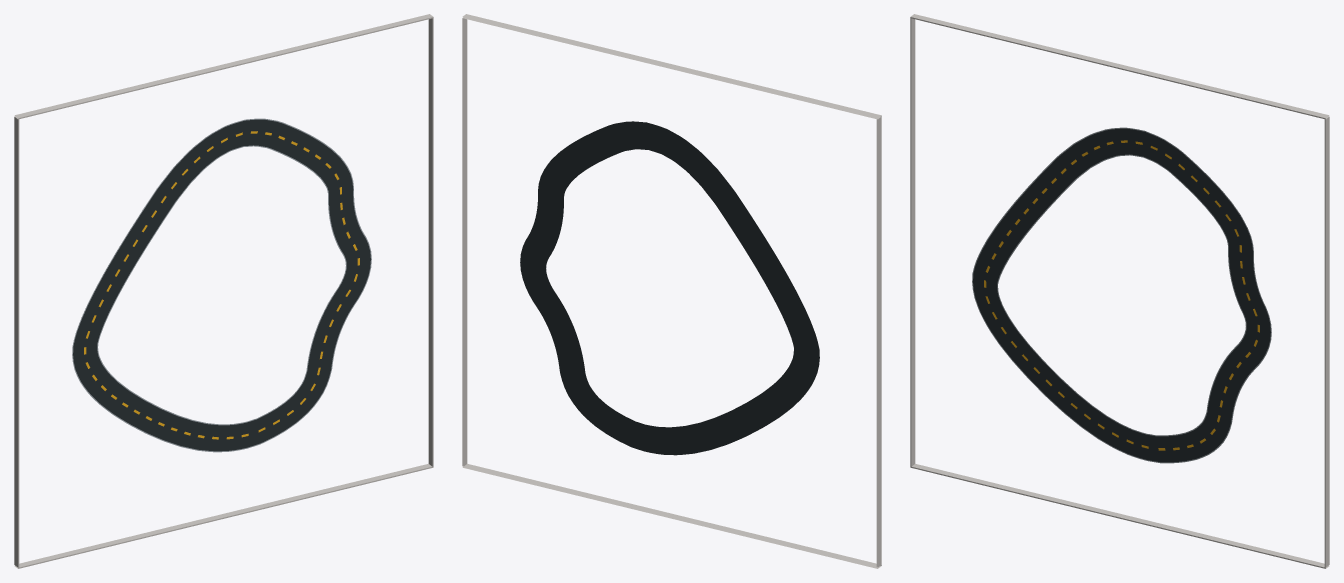
The model's file is track.obj.
3 renders of one model, left to right at view 1: azimuth 30°, elevation 25°; view 2: azimuth 150°, elevation 25°; view 3: azimuth 330°, elevation 25°, orthographic.
Size of the model in its own units: 17.96 by 18.62 by 0.3.
4 materials, 4 textured.
